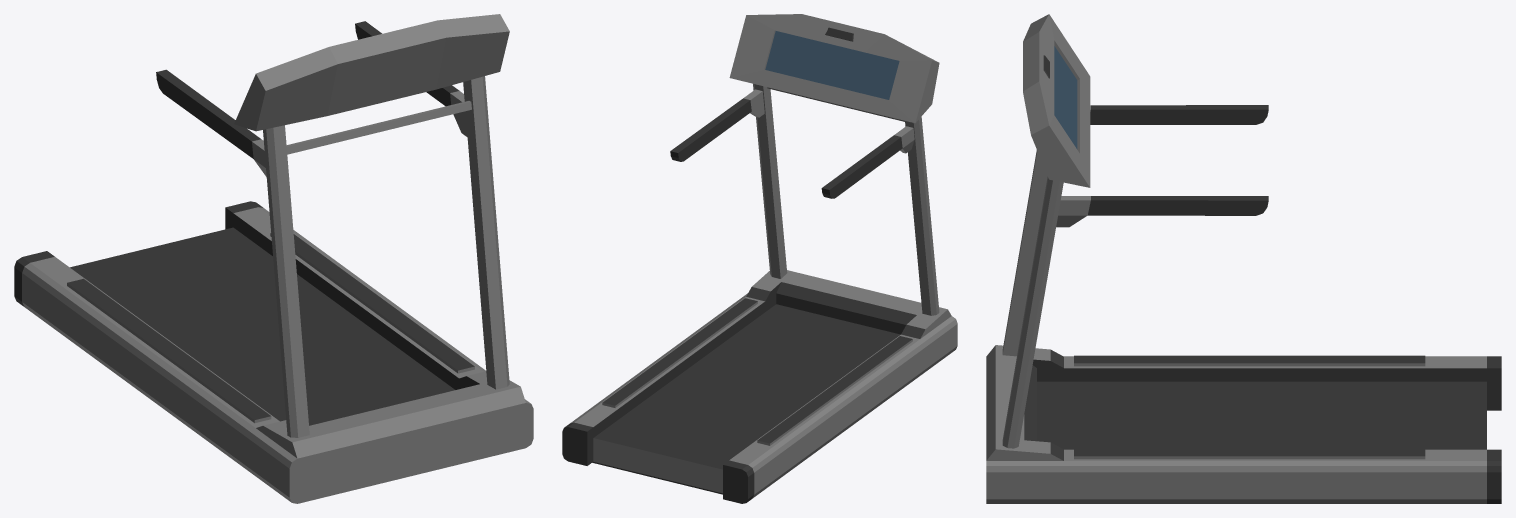
Rendered from treadmill-1-main.glb.
The picture shows the model from 3 angles, left to right: view 1: azimuth 30°, elevation 25°; view 2: azimuth 150°, elevation 25°; view 3: azimuth 270°, elevation 25°; orthographic projection. The views are drawn at different scales.
Parts seen in each view (by area): view 1: Treadmill_1_Main; view 2: Treadmill_1_Main; view 3: Treadmill_1_Main.
Boxes of the visible parts, x1,y1,x2,y2 form: Treadmill_1_Main: (14, 14, 533, 503); Treadmill_1_Main: (562, 14, 957, 503); Treadmill_1_Main: (986, 14, 1501, 503).
Bounding box in the file's own units: 87.78 × 147 × 171.
1 material, 1 textured.
